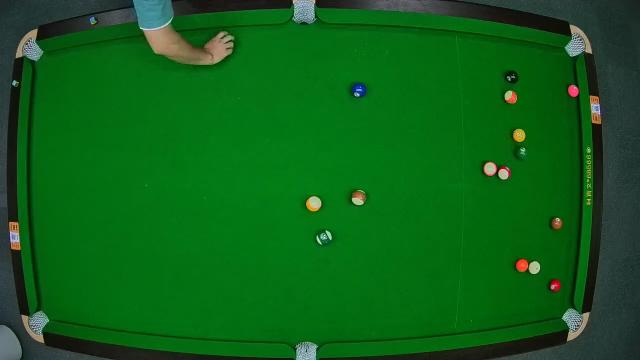bag1: (22, 39, 42, 61)
bag2: (292, 0, 318, 24)
bag3: (564, 33, 588, 55)
bag4: (27, 310, 48, 334)
bag5: (293, 340, 319, 360)
bag6: (562, 308, 582, 330)
ball0: (528, 260, 542, 274)
ball1: (512, 129, 528, 143)
ball11: (496, 164, 512, 180)
ball12: (480, 161, 496, 177)
ball13: (504, 90, 520, 105)
ball14: (316, 228, 334, 246)
ball15: (351, 190, 367, 206)
ball2: (349, 82, 367, 99)
ball3: (548, 278, 562, 292)
ball4: (567, 84, 581, 98)
ball5: (516, 258, 528, 274)
ball6: (516, 146, 528, 160)
ball7: (548, 214, 564, 232)
ball8: (504, 70, 520, 84)
ball9: (304, 195, 322, 213)
